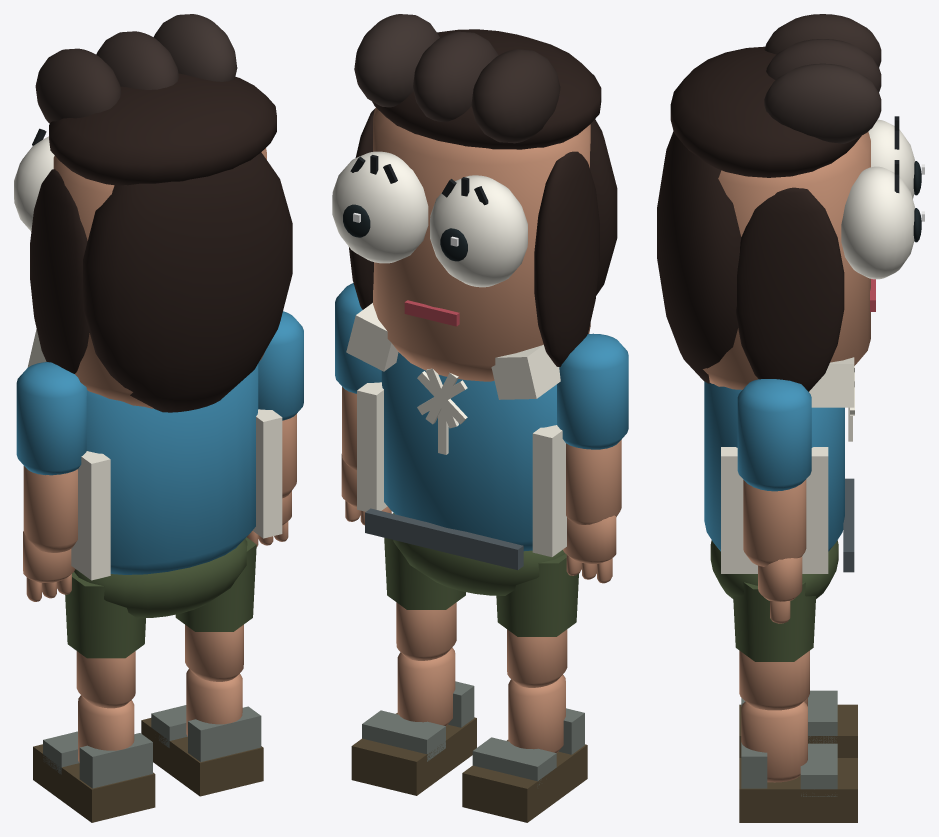
File: spectator_10.glb
3 renders of one model, left to right at view 1: azimuth 30°, elevation 25°; view 2: azimuth 150°, elevation 25°; view 3: azimuth 270°, elevation 25°, orthographic. The views are drawn at different scales.
Visible parts, largest first — view 1: Head, RallySpectator, LeftShin, RightShin, LeftLeg, LeftArm, LeftForearm, RightLeg, RightArm, RightForearm; view 2: Head, RallySpectator, RightShin, LeftShin, LeftLeg, LeftArm, LeftForearm, RightLeg, RightArm, RightForearm; view 3: Head, RallySpectator, RightShin, RightLeg, RightArm, RightForearm, LeftShin.
Boxes of the visible parts, bbox=[...] form: Head: bbox=[14, 14, 292, 412]; RallySpectator: bbox=[27, 329, 282, 618]; LeftShin: bbox=[33, 695, 155, 822]; RightShin: bbox=[141, 669, 263, 796]; LeftLeg: bbox=[65, 572, 145, 708]; LeftArm: bbox=[16, 362, 87, 475]; LeftForearm: bbox=[23, 466, 77, 601]; RightLeg: bbox=[175, 537, 256, 681]; RightArm: bbox=[258, 311, 303, 420]; RightForearm: bbox=[247, 414, 296, 546]; Head: bbox=[332, 14, 617, 381]; RallySpectator: bbox=[346, 303, 566, 595]; RightShin: bbox=[351, 647, 476, 795]; LeftShin: bbox=[462, 674, 587, 822]; LeftLeg: bbox=[496, 554, 578, 687]; LeftArm: bbox=[557, 333, 628, 449]; LeftForearm: bbox=[563, 440, 621, 583]; RightLeg: bbox=[384, 513, 465, 660]; RightArm: bbox=[335, 283, 381, 393]; RightForearm: bbox=[341, 387, 391, 525]; Head: bbox=[657, 14, 924, 391]; RallySpectator: bbox=[704, 357, 854, 598]; RightShin: bbox=[739, 701, 857, 822]; RightLeg: bbox=[733, 582, 815, 710]; RightArm: bbox=[737, 379, 811, 491]; RightForearm: bbox=[743, 479, 806, 623]; LeftShin: bbox=[739, 690, 857, 757].
Size of the model in its own units: 0.87 by 2.21 by 0.7229.
